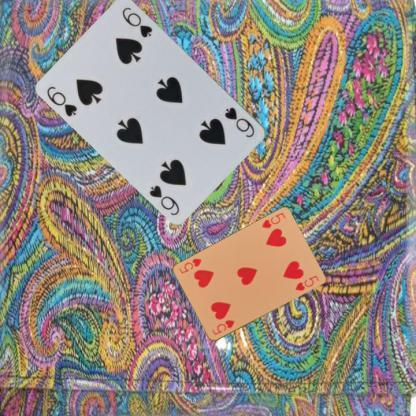5h: (259, 210, 286, 230), (209, 317, 236, 336)
6s: (44, 83, 80, 118), (221, 105, 256, 139)
